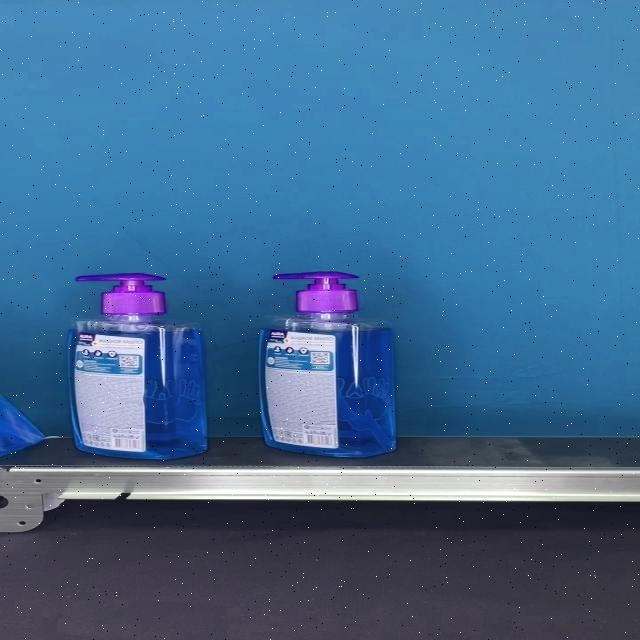Bottle: (66, 274, 206, 460), (256, 272, 396, 457)
Cap: (76, 274, 167, 316), (272, 272, 361, 313)
